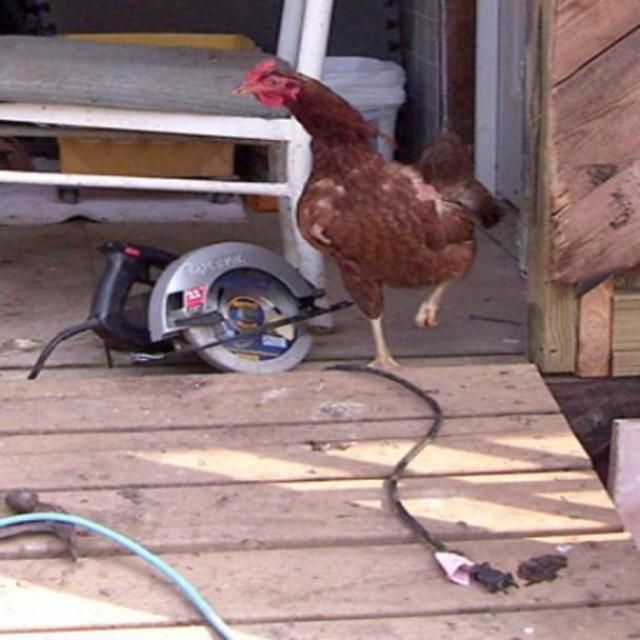Chicken: (245, 63, 500, 350)
